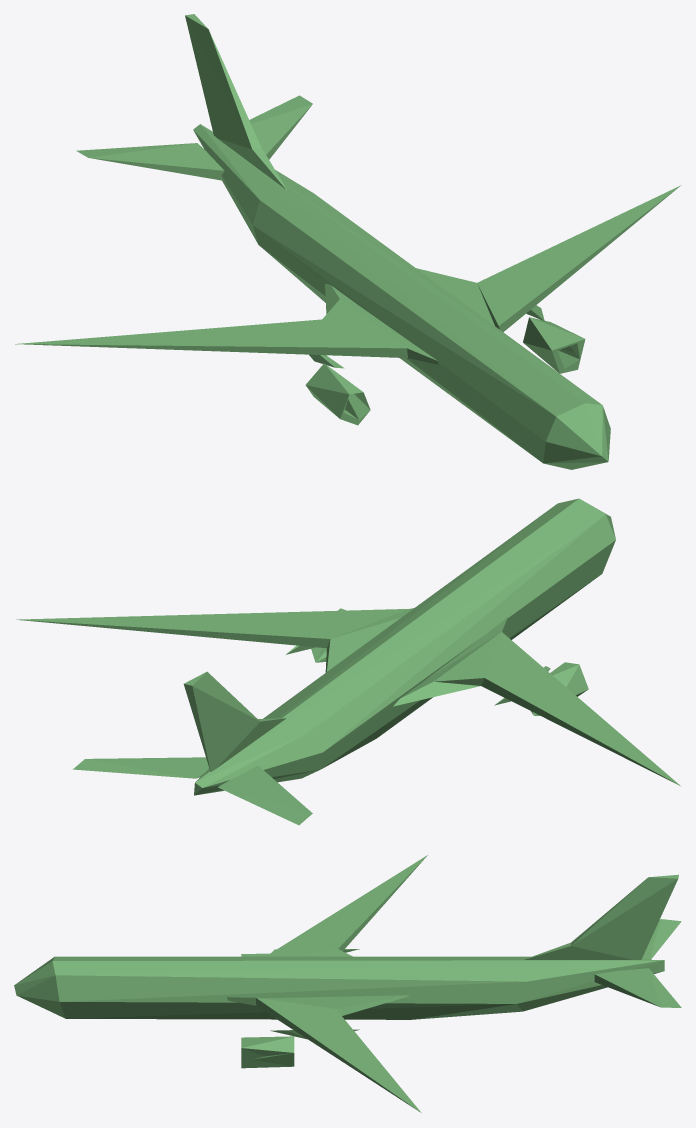
The model's file is planeModel.FBX.
3 views of the same model, one above another, from view 1: azimuth 30°, elevation 25°; view 2: azimuth 150°, elevation 25°; view 3: azimuth 270°, elevation 25° (orthographic). The views are drawn at different scales.
Parts seen in each view (by area): view 1: M_Plane; view 2: M_Plane; view 3: M_Plane.
Boxes of the visible parts, x1,y1,x2,y2 form: M_Plane: (15,14,681,469); M_Plane: (16,498,681,825); M_Plane: (14,855,681,1112).
Bounding box in the file's own units: 51.55 × 56.11 × 13.76.
